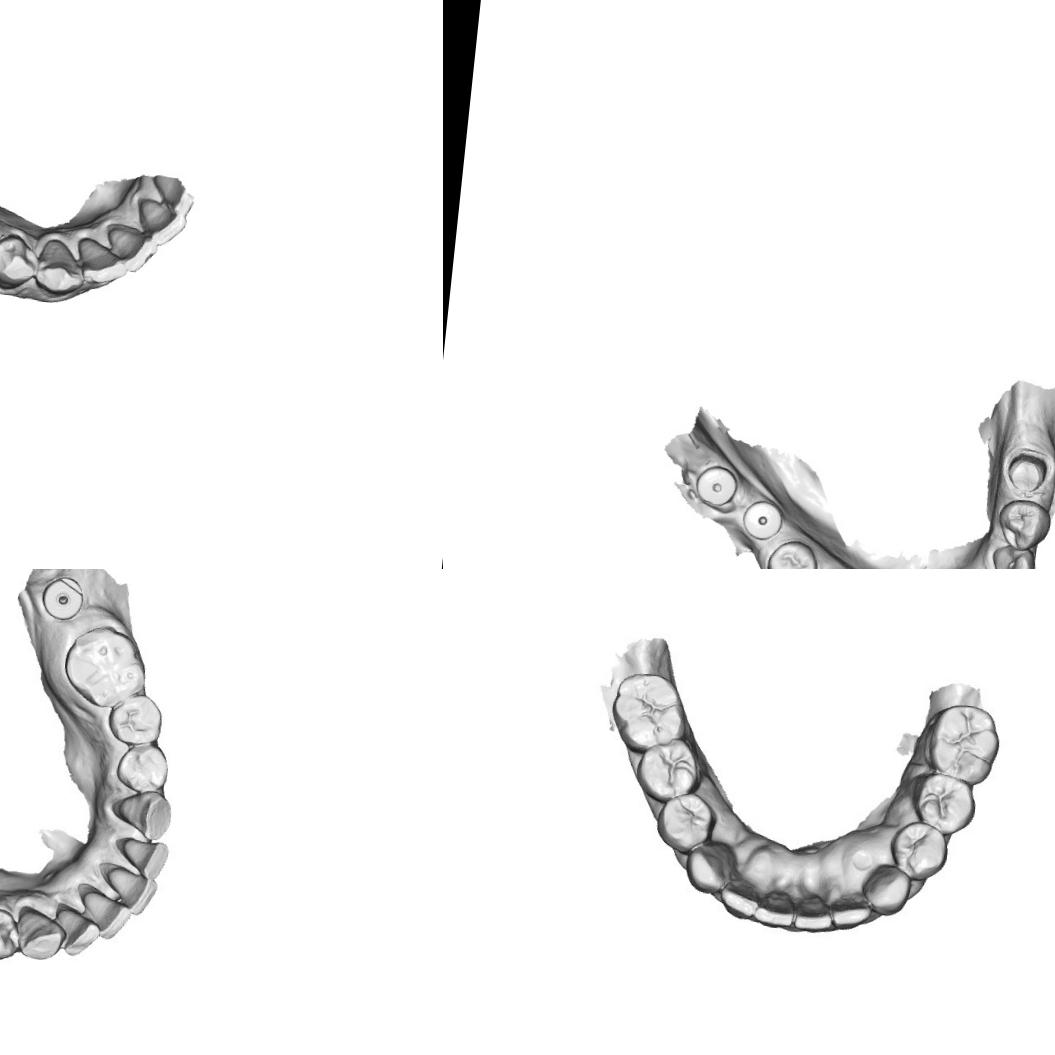canine: (32, 225, 92, 302), (14, 904, 68, 966), (114, 788, 176, 842), (688, 840, 738, 893), (866, 866, 910, 915), (987, 542, 1037, 569)
crown: (1003, 448, 1051, 496)
implant: (41, 573, 89, 623), (739, 497, 786, 543), (693, 462, 739, 508)
incisor: (72, 232, 130, 292), (131, 194, 190, 252), (102, 220, 162, 276), (101, 864, 161, 917), (78, 890, 133, 942), (55, 904, 100, 960), (714, 875, 764, 923), (118, 835, 173, 877), (794, 892, 840, 938), (832, 894, 875, 934), (755, 888, 793, 929)
molar: (63, 621, 148, 710), (611, 666, 690, 752), (926, 700, 1006, 783)
premolar: (654, 785, 721, 854), (915, 768, 981, 835), (634, 737, 702, 802), (890, 818, 947, 880), (995, 496, 1054, 554), (105, 691, 162, 748), (0, 226, 43, 294), (118, 742, 172, 796), (763, 537, 821, 569), (0, 905, 20, 965)
